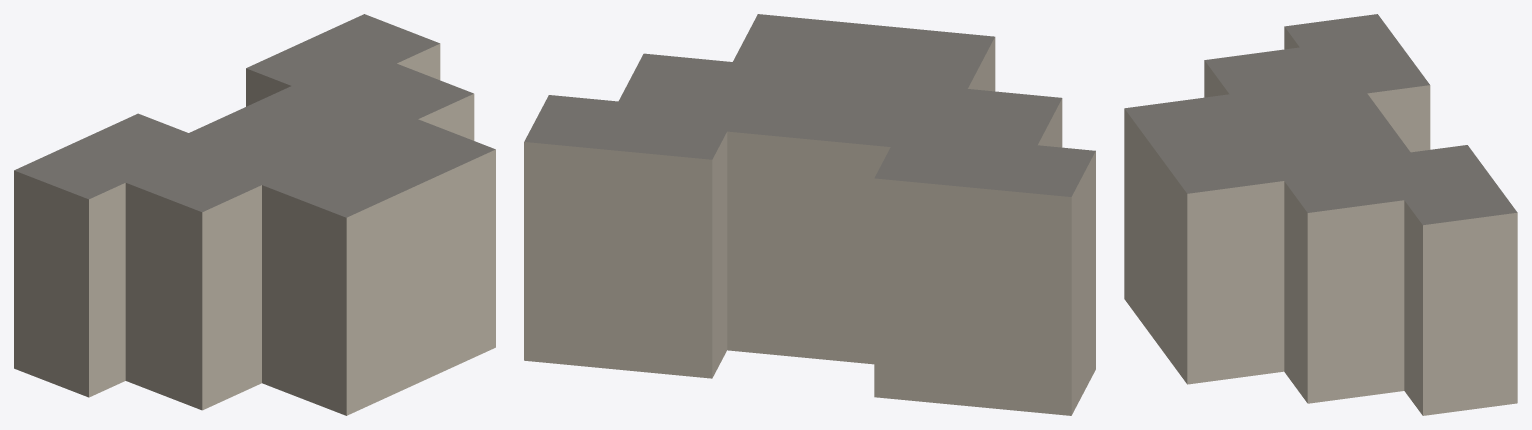
3 renders of one model, left to right at view 1: azimuth 30°, elevation 25°; view 2: azimuth 150°, elevation 25°; view 3: azimuth 270°, elevation 25°, orthographic. The views are drawn at different scales.
Parts seen in each view (by area): view 1: HP-w293512896; view 2: HP-w293512896; view 3: HP-w293512896.
Part boxes in pixels (x1,y1,x2,y2): HP-w293512896: [14, 14, 495, 415]; HP-w293512896: [524, 14, 1095, 415]; HP-w293512896: [1124, 14, 1517, 415].
Bounding box in the file's own units: 42.75 × 18 × 33.64.
